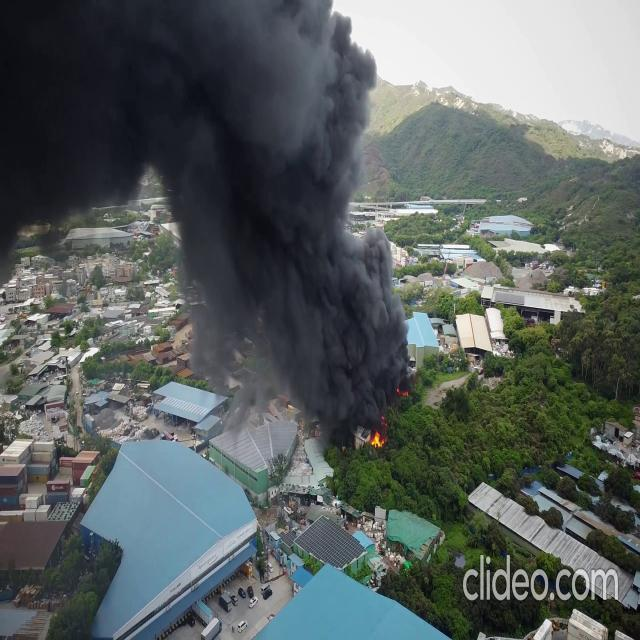Fire: (366, 428, 386, 450)
Smoke: (1, 1, 416, 422)
